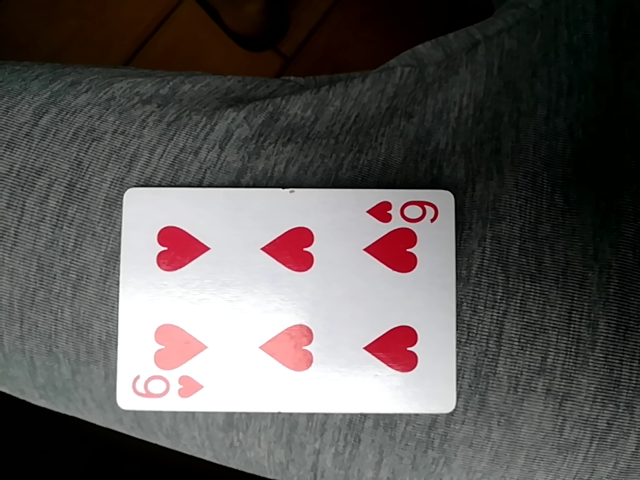hx 6: (118, 185, 460, 414)
